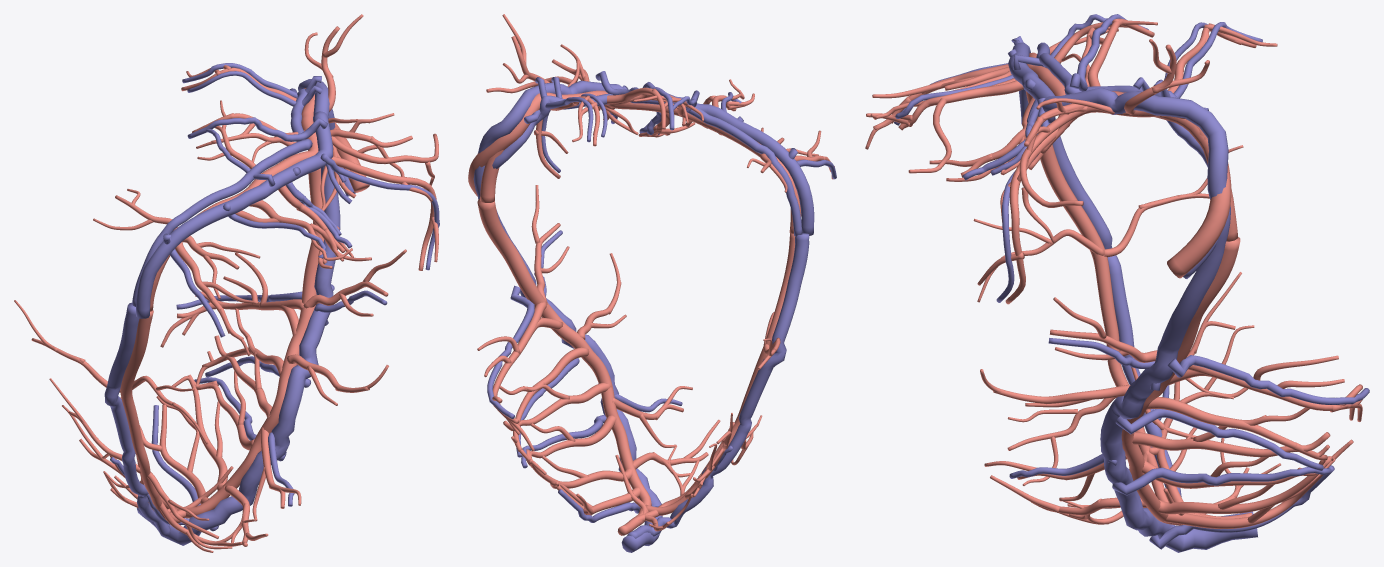
The model's file is vessels_50.glb.
The picture shows the model from 3 angles, left to right: view 1: azimuth 30°, elevation 25°; view 2: azimuth 150°, elevation 25°; view 3: azimuth 270°, elevation 25°; orthographic projection. The views are drawn at different scales.
Visible parts, largest first — view 1: Renderer Node; view 2: Renderer Node; view 3: Renderer Node.
Part boxes in pixels (x1,y1,x2,y2): Renderer Node: (14,14,439,552); Renderer Node: (468,14,836,552); Renderer Node: (865,14,1369,552).
Size of the model in its own units: 89.49 by 119 by 89.02.
